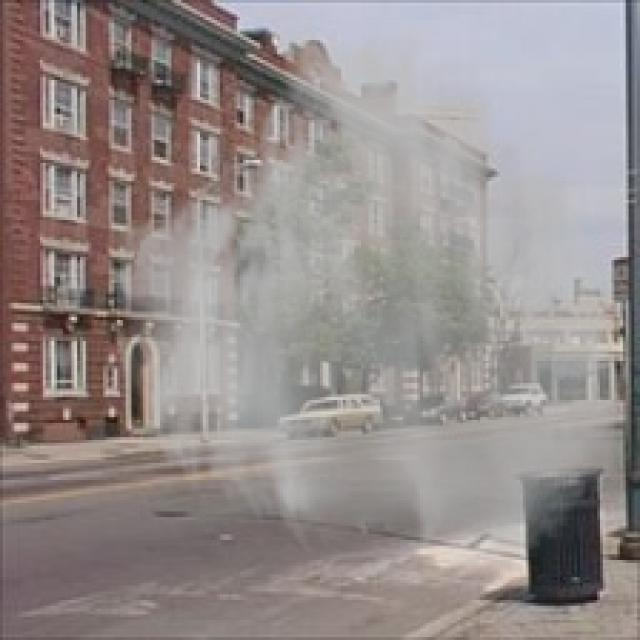smoke: (109, 6, 637, 571)
